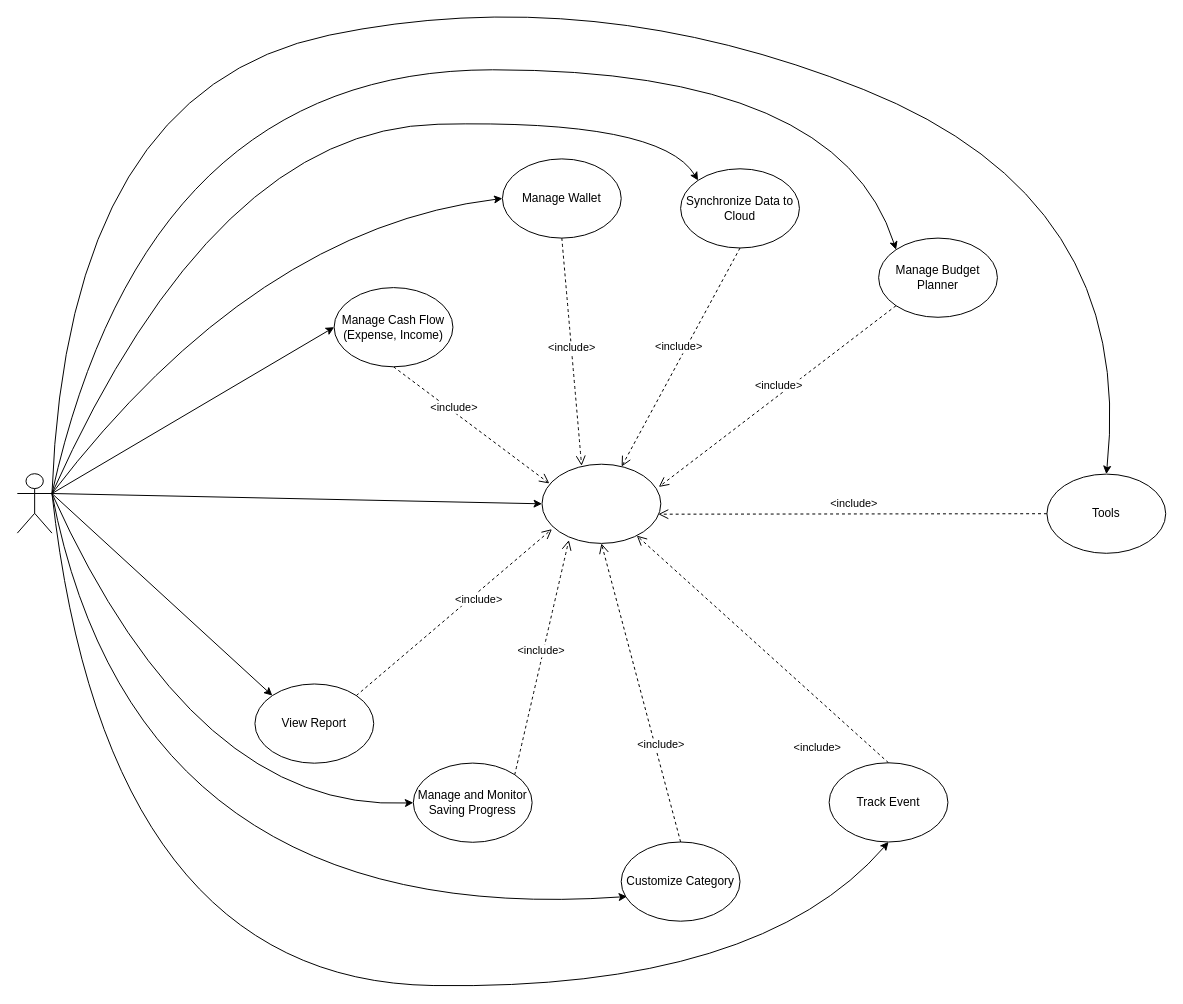
Some shapes in this 1183 by 1004 pixel diagram are drawn without their labels. Here are the shapes that lost their labels. From the top down, the centre of each, then its label:
At pixel 34 503: "User".
At pixel 601 503: "Login".
